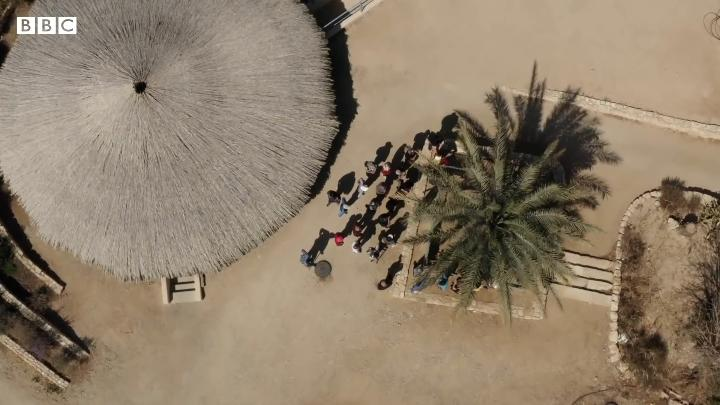Date-Palm-Crown: (438, 162, 548, 278)
